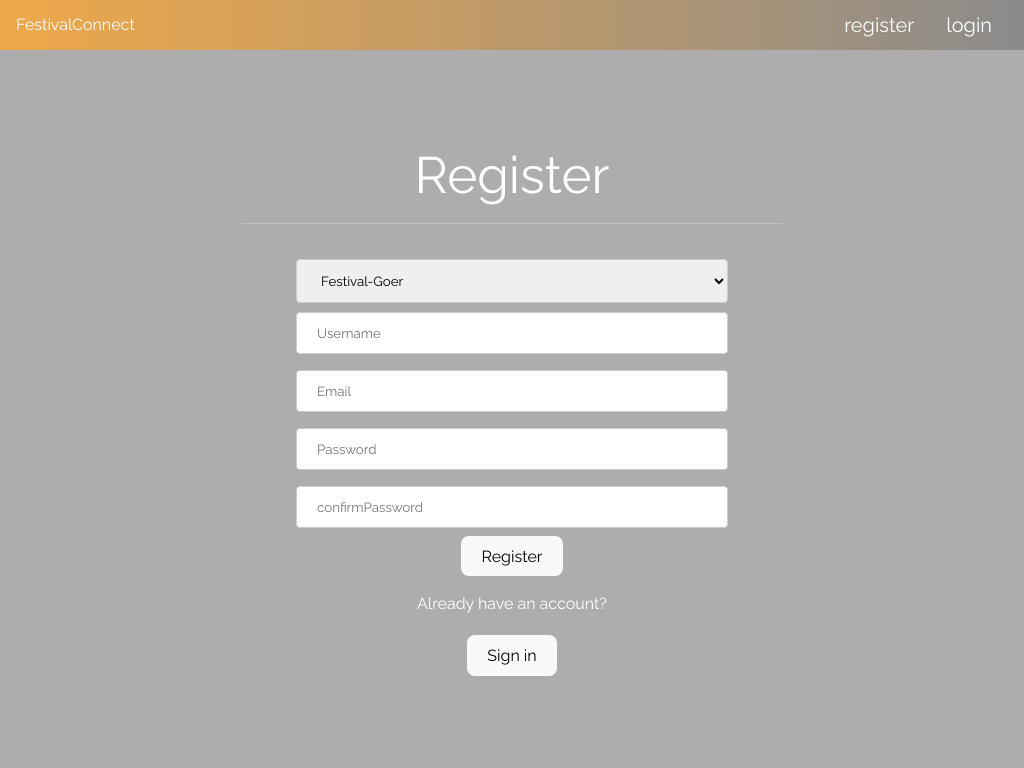
it: Register Input Fields › displays error message if email is invalid
In the field named "username": {"x": 512, "y": 333} top-left (296, 312), bottom-right (728, 354), type "testuser"
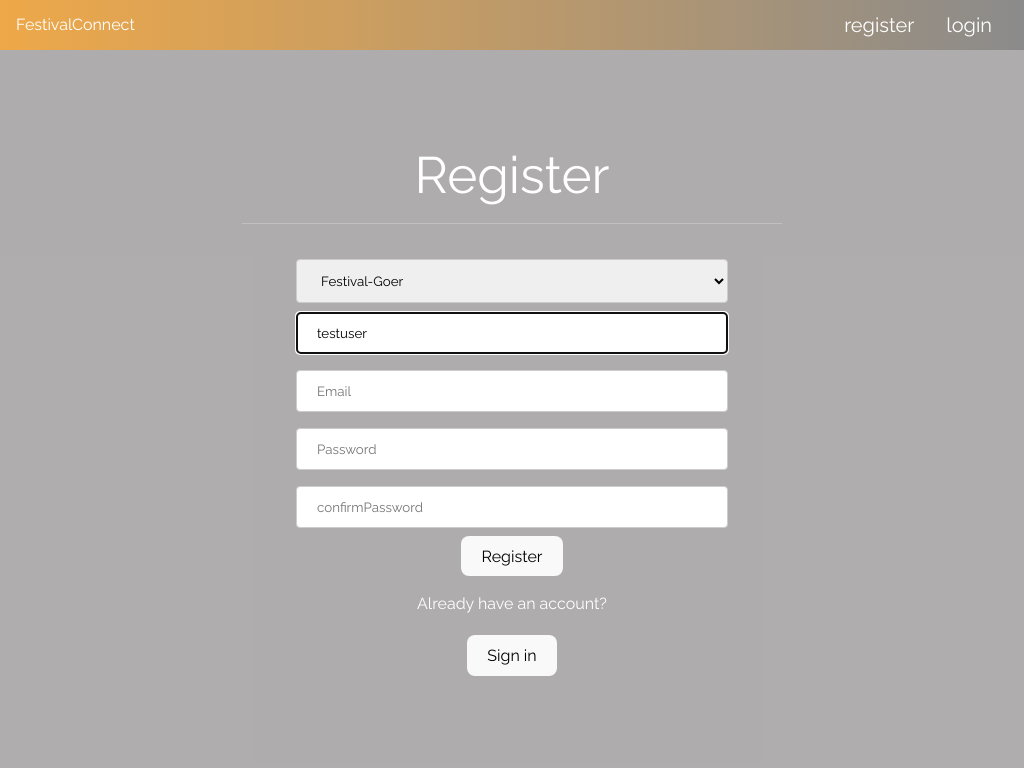
In the field named "email": {"x": 512, "y": 391} top-left (296, 370), bottom-right (728, 412), type "invalid-email"
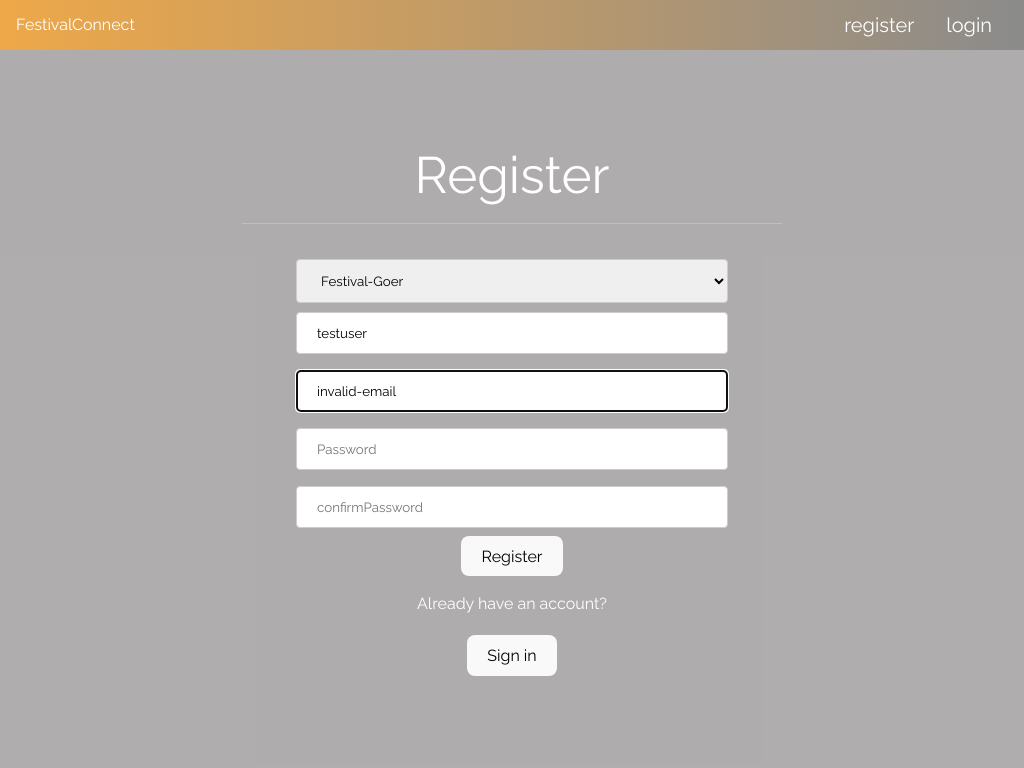
In the password field named "password": {"x": 512, "y": 449} top-left (296, 428), bottom-right (728, 470), type "password123"
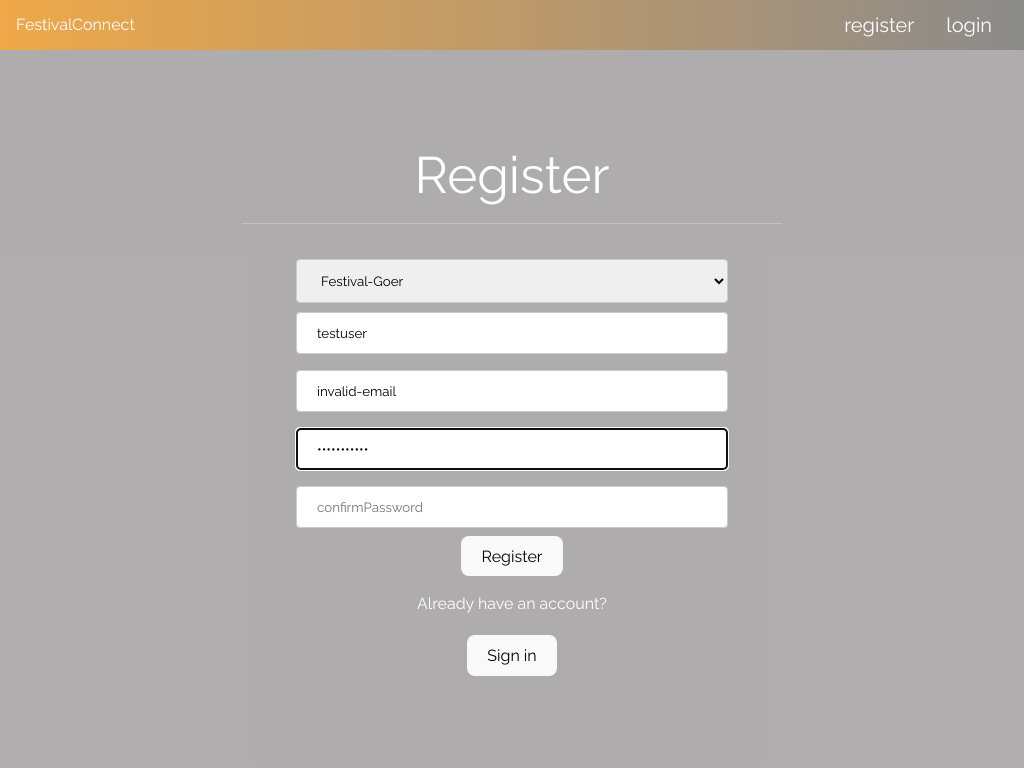
In the password field named "confirmPassword": {"x": 512, "y": 507} top-left (296, 486), bottom-right (728, 528), type "password123"
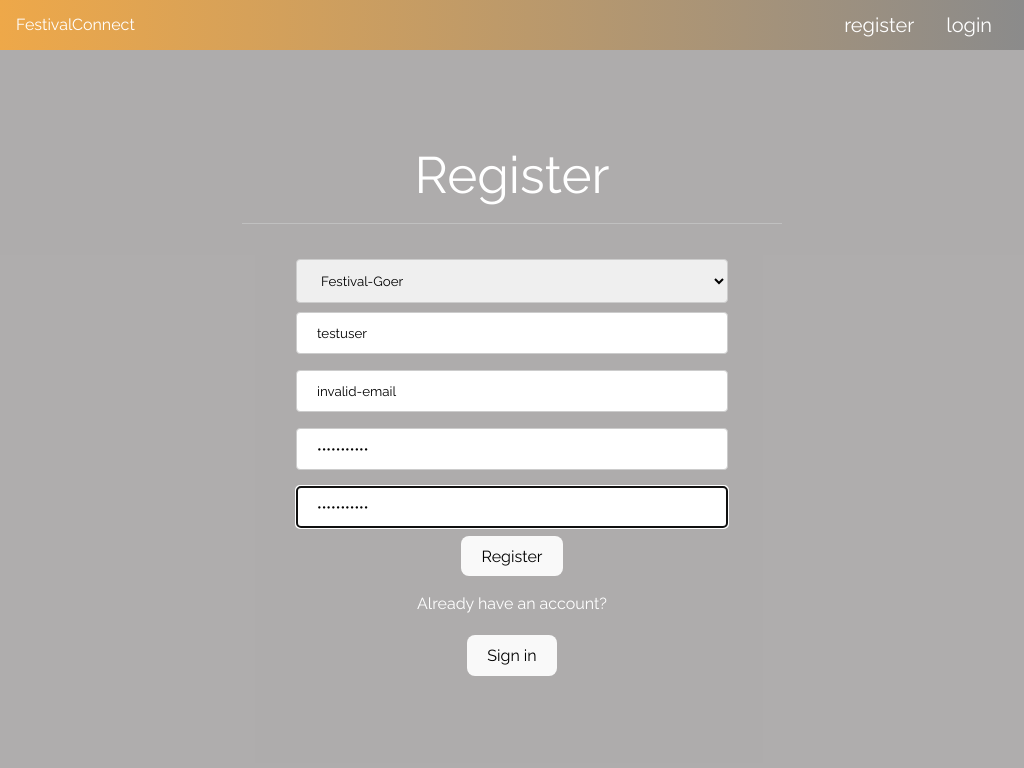
Click the submit button: {"x": 512, "y": 556} top-left (461, 536), bottom-right (562, 576)
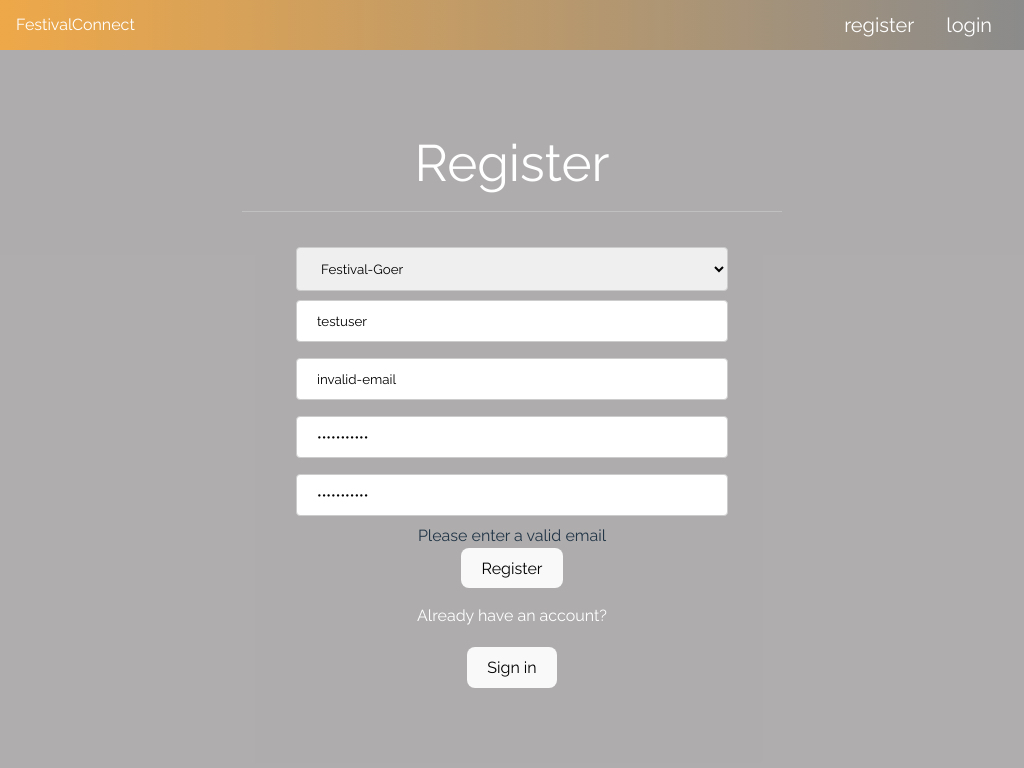
Check: the text with id "error" reads "Please enter a valid email", box top-left (418, 526), bottom-right (606, 545)
